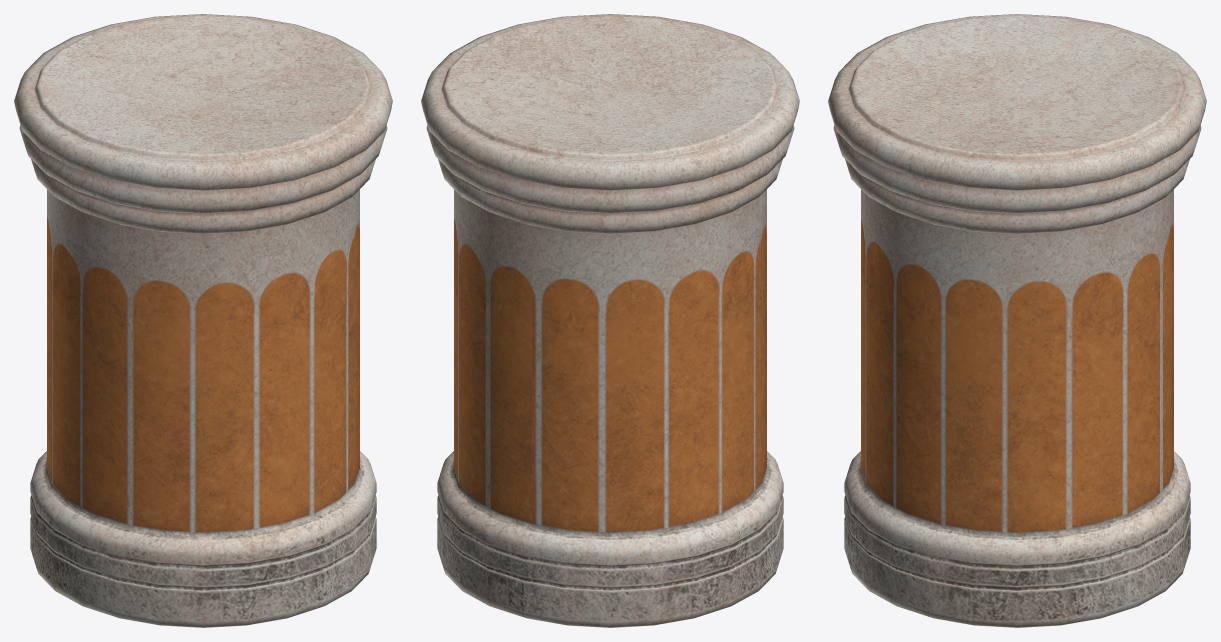
File: ZhuZi.fbx
3 renders of one model, left to right at view 1: azimuth 30°, elevation 25°; view 2: azimuth 150°, elevation 25°; view 3: azimuth 270°, elevation 25°, orthographic.
Parts seen in each view (by area): view 1: ZhuZi; view 2: ZhuZi; view 3: ZhuZi.
Boxes of the visible parts, x1,y1,x2,y2 form: ZhuZi: [14, 14, 392, 627]; ZhuZi: [421, 14, 799, 627]; ZhuZi: [828, 14, 1206, 627].
Size of the model in its own units: 75.03 by 103 by 75.03.
